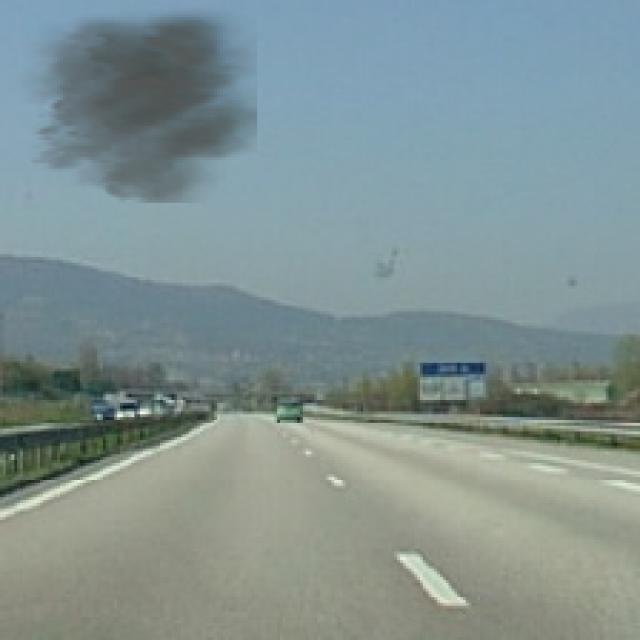smoke: (6, 3, 257, 203)
